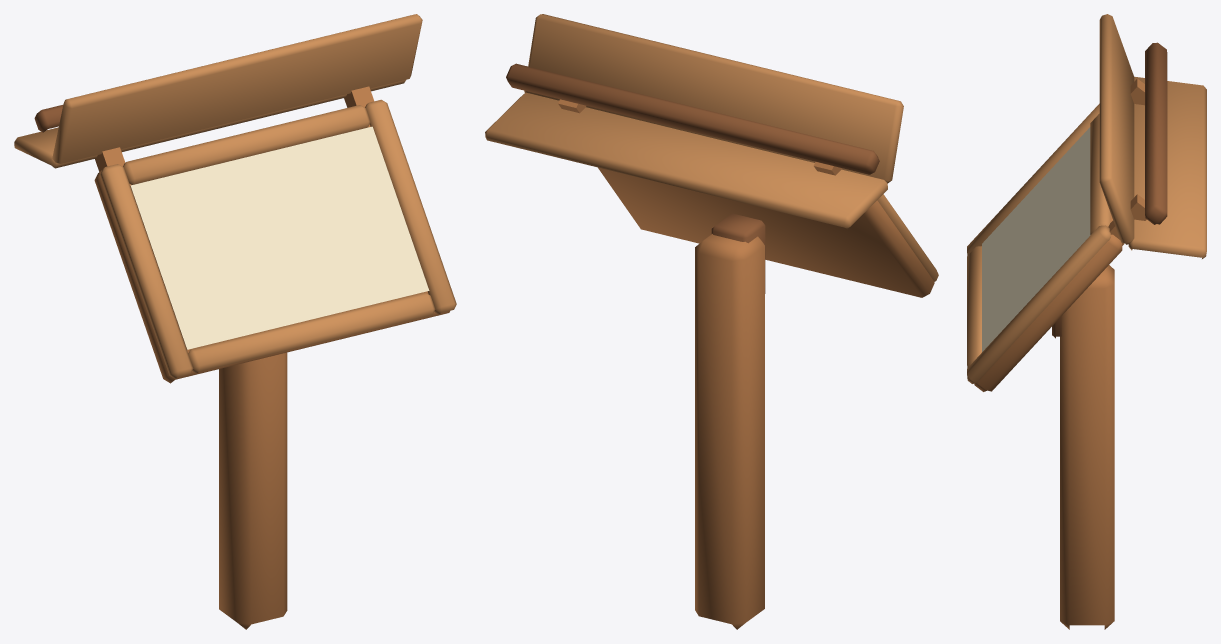
The model's file is info_board.glb.
The picture shows the model from 3 angles, left to right: view 1: azimuth 30°, elevation 25°; view 2: azimuth 150°, elevation 25°; view 3: azimuth 270°, elevation 25°; orthographic projection. The views are drawn at different scales.
Parts seen in each view (by area): view 1: info_board; view 2: info_board; view 3: info_board.
Boxes of the visible parts, x1,y1,x2,y2 form: info_board: (14, 14, 456, 629); info_board: (485, 14, 938, 629); info_board: (967, 14, 1206, 629).
Bounding box in the file's own units: 1 × 1.49 × 0.6136.
Materials: 1 (1 with a texture image).
